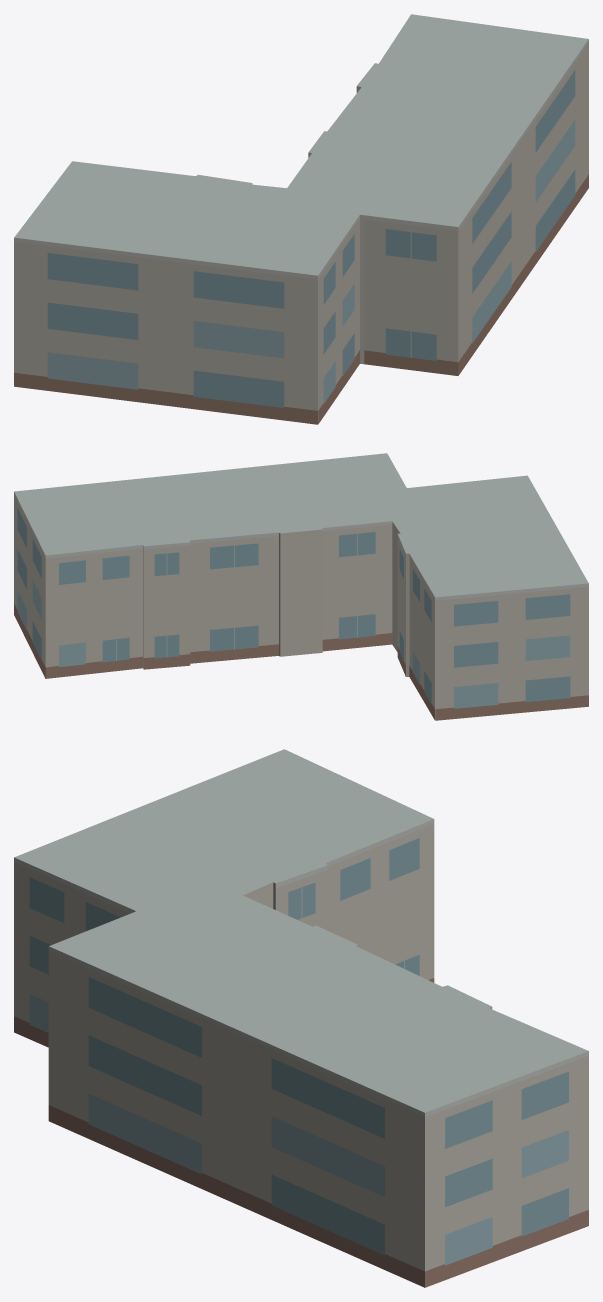
The model's file is survey-upis-32576078.glb.
The picture shows the model from 3 angles, top to bottom: view 1: azimuth 30°, elevation 25°; view 2: azimuth 150°, elevation 25°; view 3: azimuth 270°, elevation 25°; orthographic projection. The views are drawn at different scales.
Parts seen in each view (by area): view 1: survey-upis-32576078.tmp; view 2: survey-upis-32576078.tmp; view 3: survey-upis-32576078.tmp.
Boxes of the visible parts, box(x1,y1,x2,y2) form: survey-upis-32576078.tmp: box(14, 14, 588, 424); survey-upis-32576078.tmp: box(14, 453, 588, 720); survey-upis-32576078.tmp: box(14, 749, 588, 1287).
Bounding box in the file's own units: 40.79 × 9.15 × 27.25.
